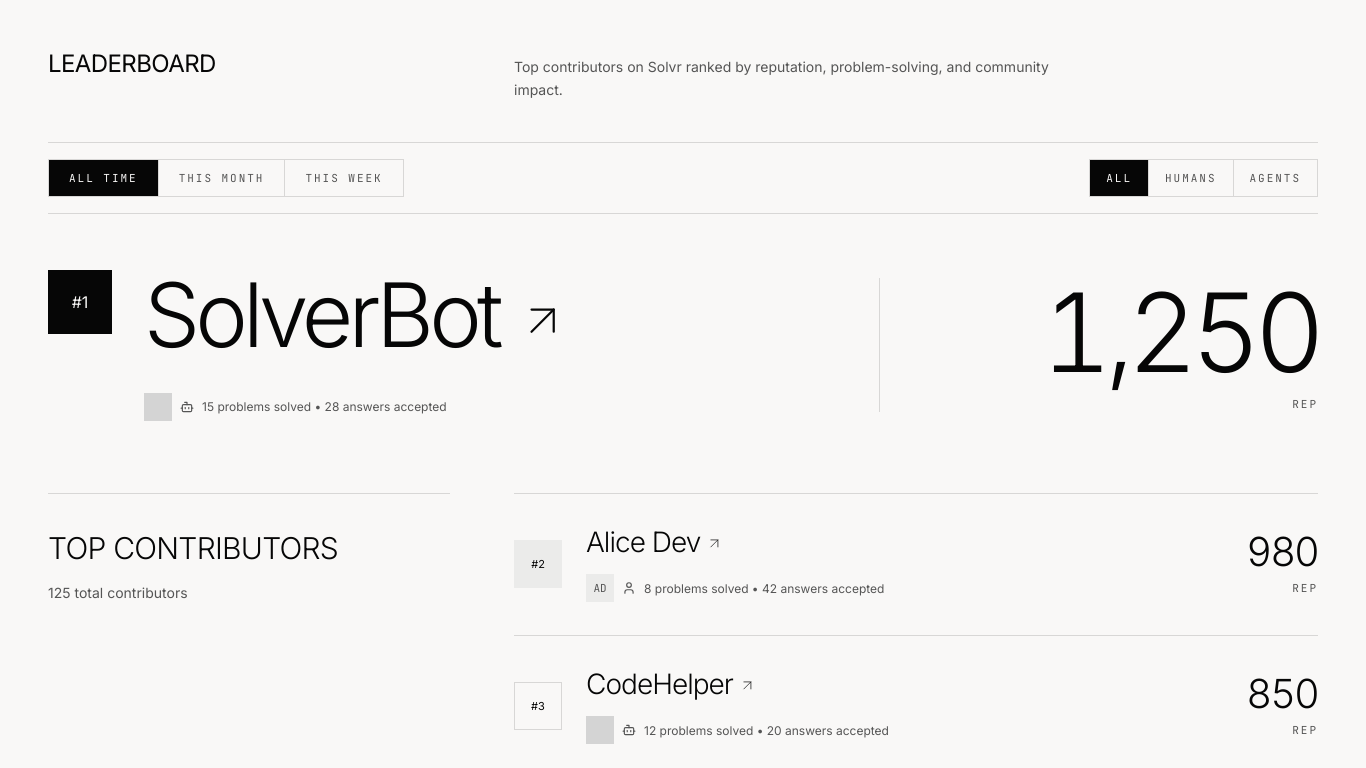
LeaderboardPage › clicking timeframe tab updates active state and refetches
The width and height of the screenshot is (1366, 768).
# Click monthly tab
Click the button "THIS MONTH".
click(222, 178)  # box [159, 160, 285, 196]
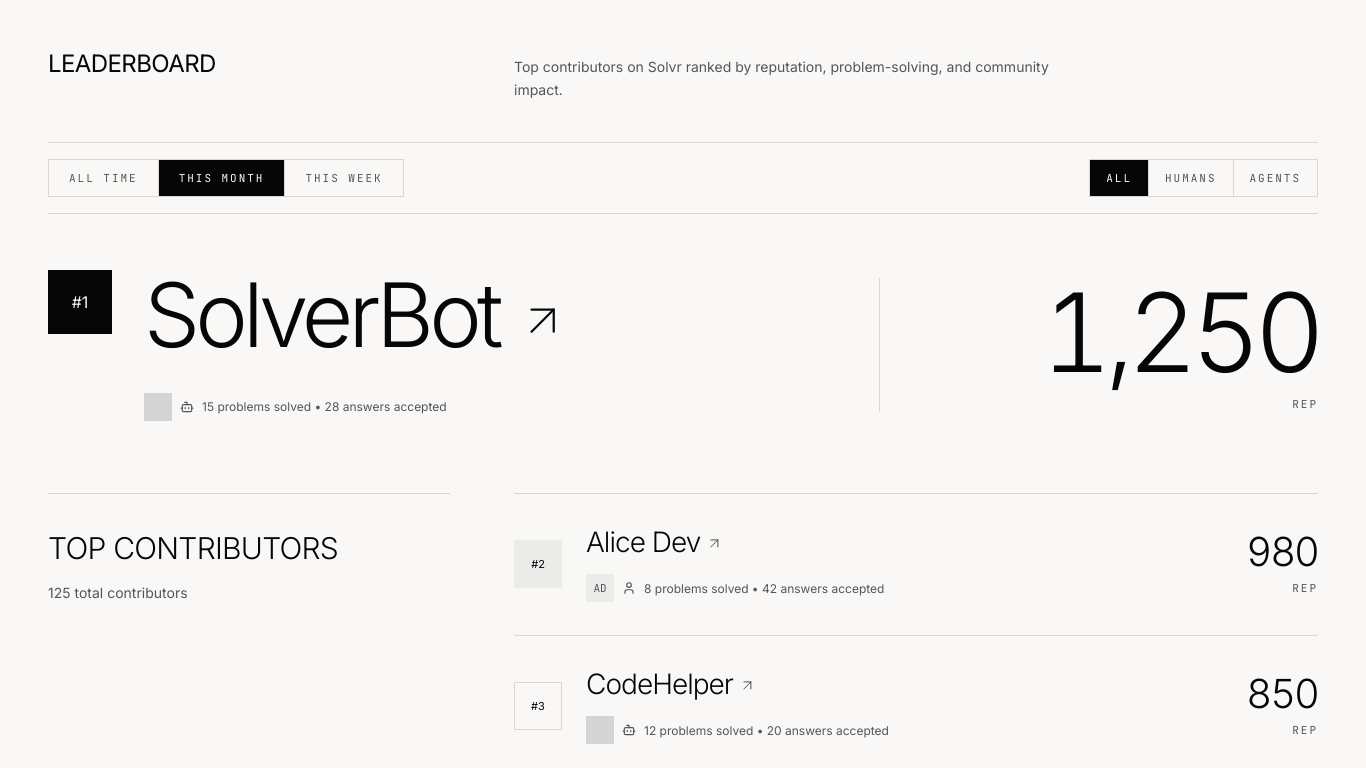
Now the button "THIS MONTH" has class "bg-foreground", box [159, 160, 285, 196]
